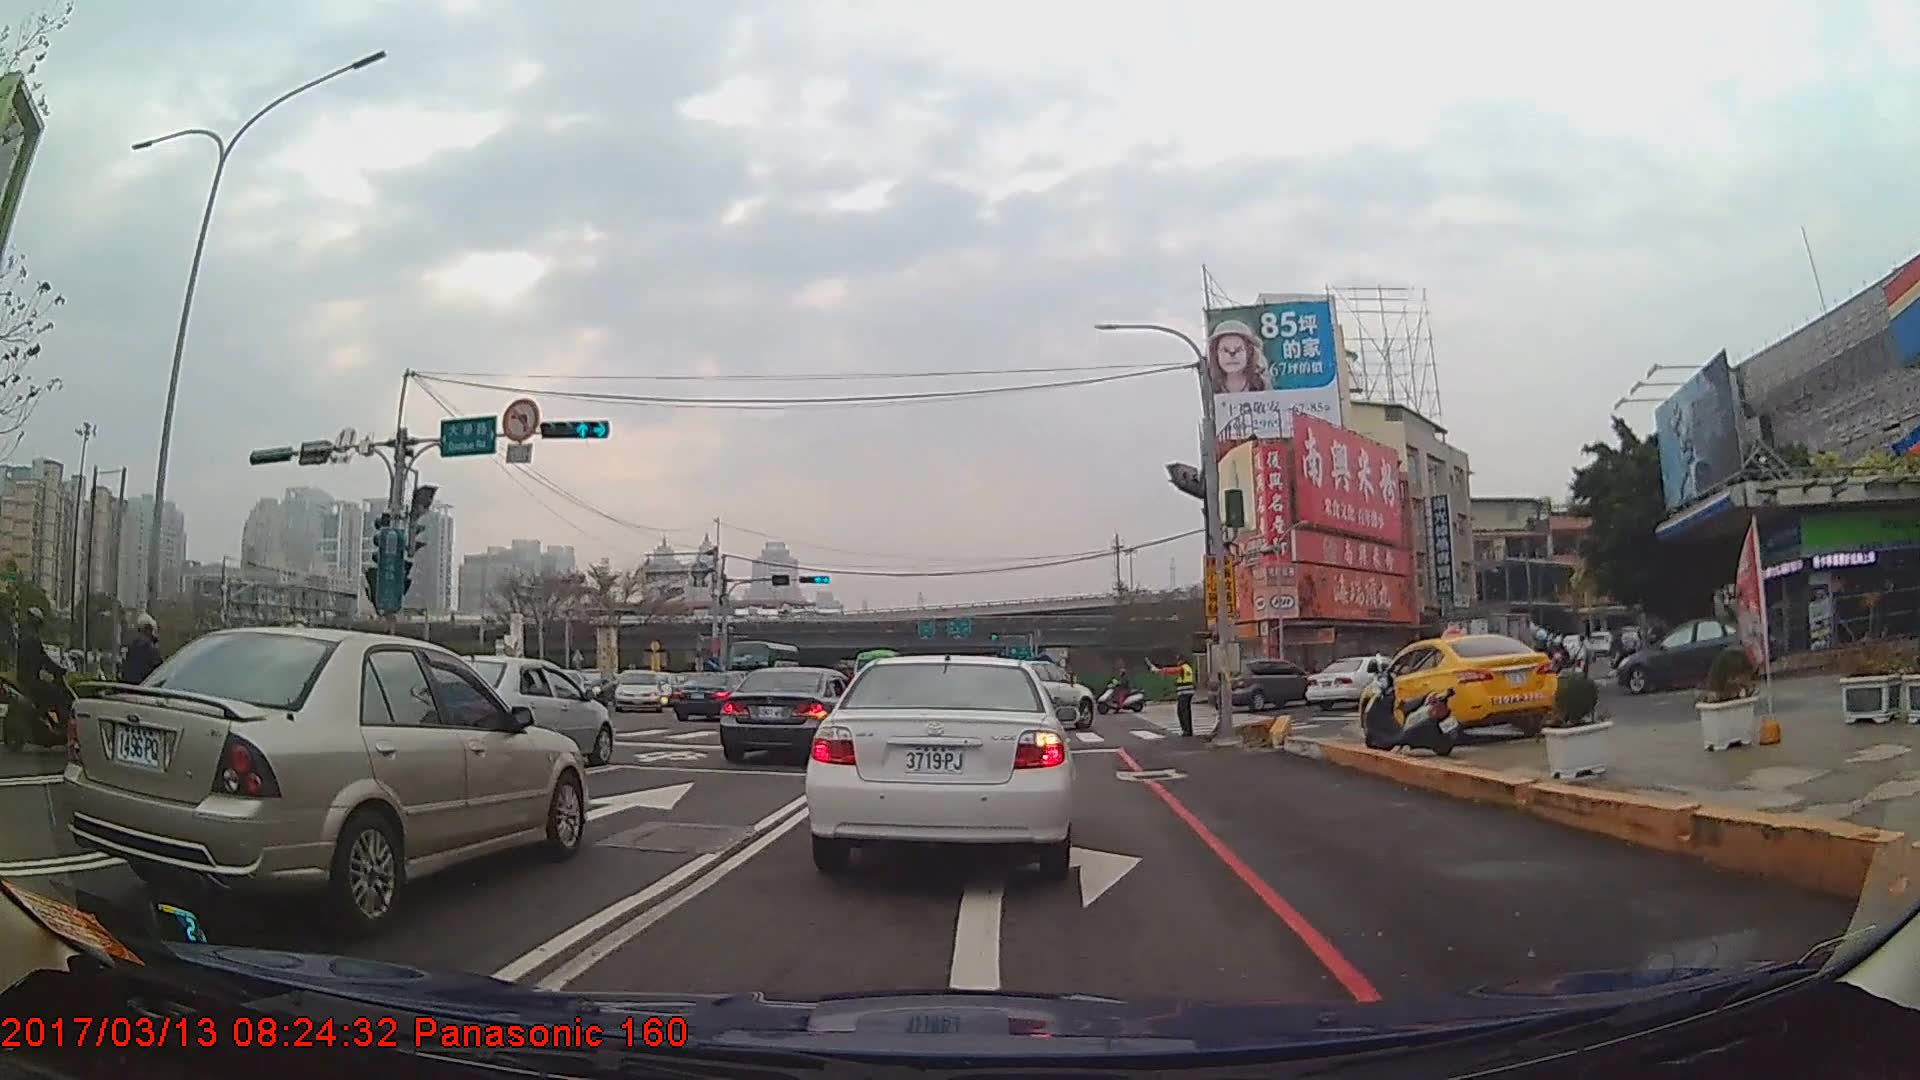pedestrian: (1141, 658, 1198, 739)
rider: (1, 609, 82, 761), (114, 615, 187, 774), (1099, 671, 1145, 720), (1544, 636, 1569, 689)
vehicle: (64, 627, 589, 930), (803, 649, 1076, 870), (1357, 633, 1560, 745), (423, 655, 613, 769), (719, 666, 863, 766), (1613, 617, 1775, 695), (989, 657, 1095, 734), (1440, 611, 1548, 673), (1207, 657, 1321, 712), (1305, 653, 1409, 709), (671, 668, 761, 722), (612, 670, 658, 715)
